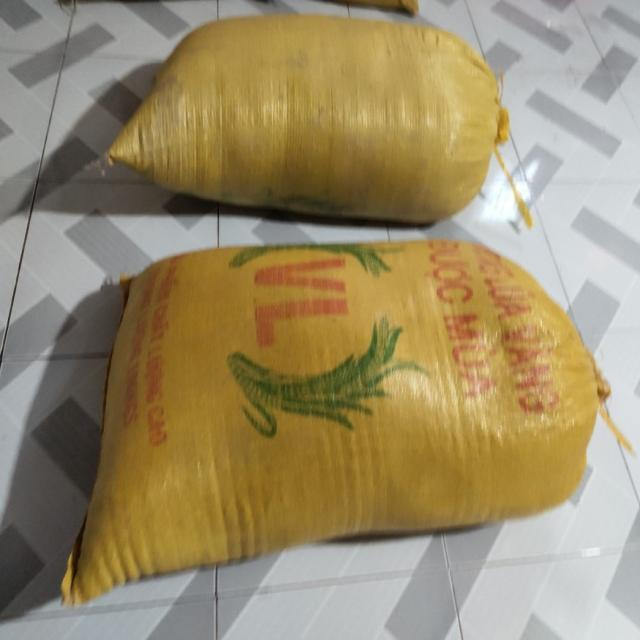gunny_bag: (61, 240, 611, 605), (107, 14, 502, 223)
